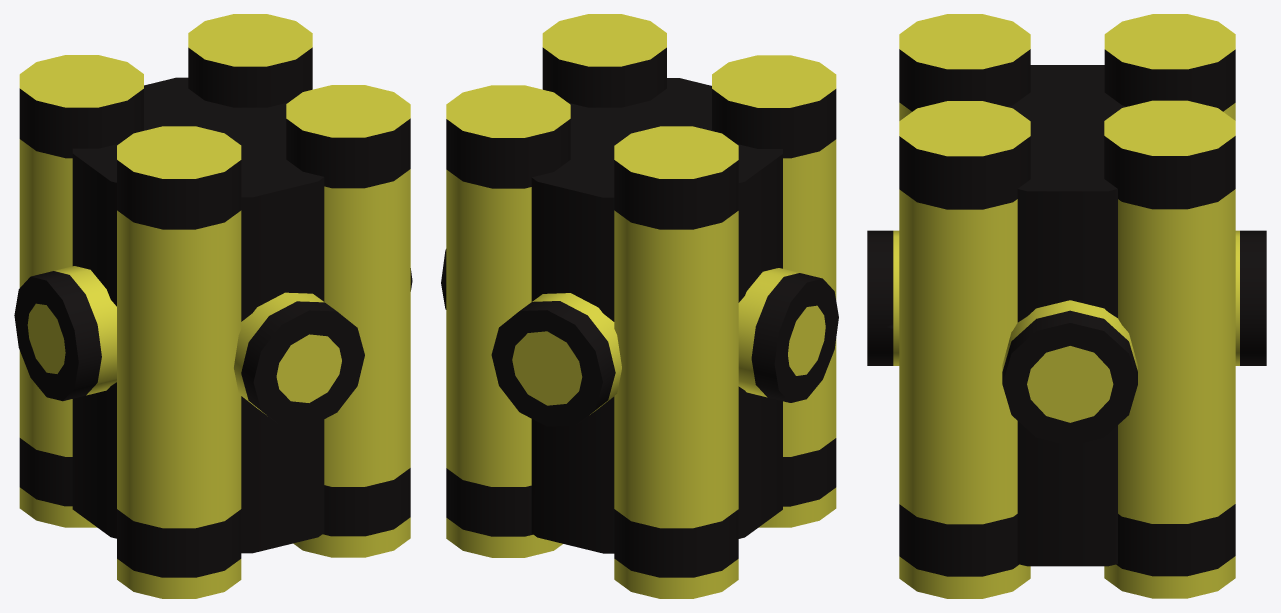
Rendered from Coin3.FBX.
3 views of the same model, side by side, from view 1: azimuth 30°, elevation 25°; view 2: azimuth 150°, elevation 25°; view 3: azimuth 270°, elevation 25° (orthographic). The views are drawn at different scales.
Parts seen in each view (by area): view 1: Cylinder005; view 2: Cylinder005; view 3: Cylinder005.
Boxes of the visible parts, x1,y1,x2,y2 form: Cylinder005: [14, 14, 412, 598]; Cylinder005: [441, 14, 838, 598]; Cylinder005: [867, 14, 1266, 598].
Bounding box in the file's own units: 57.81 × 69.53 × 56.86.
1 material, 1 textured.
